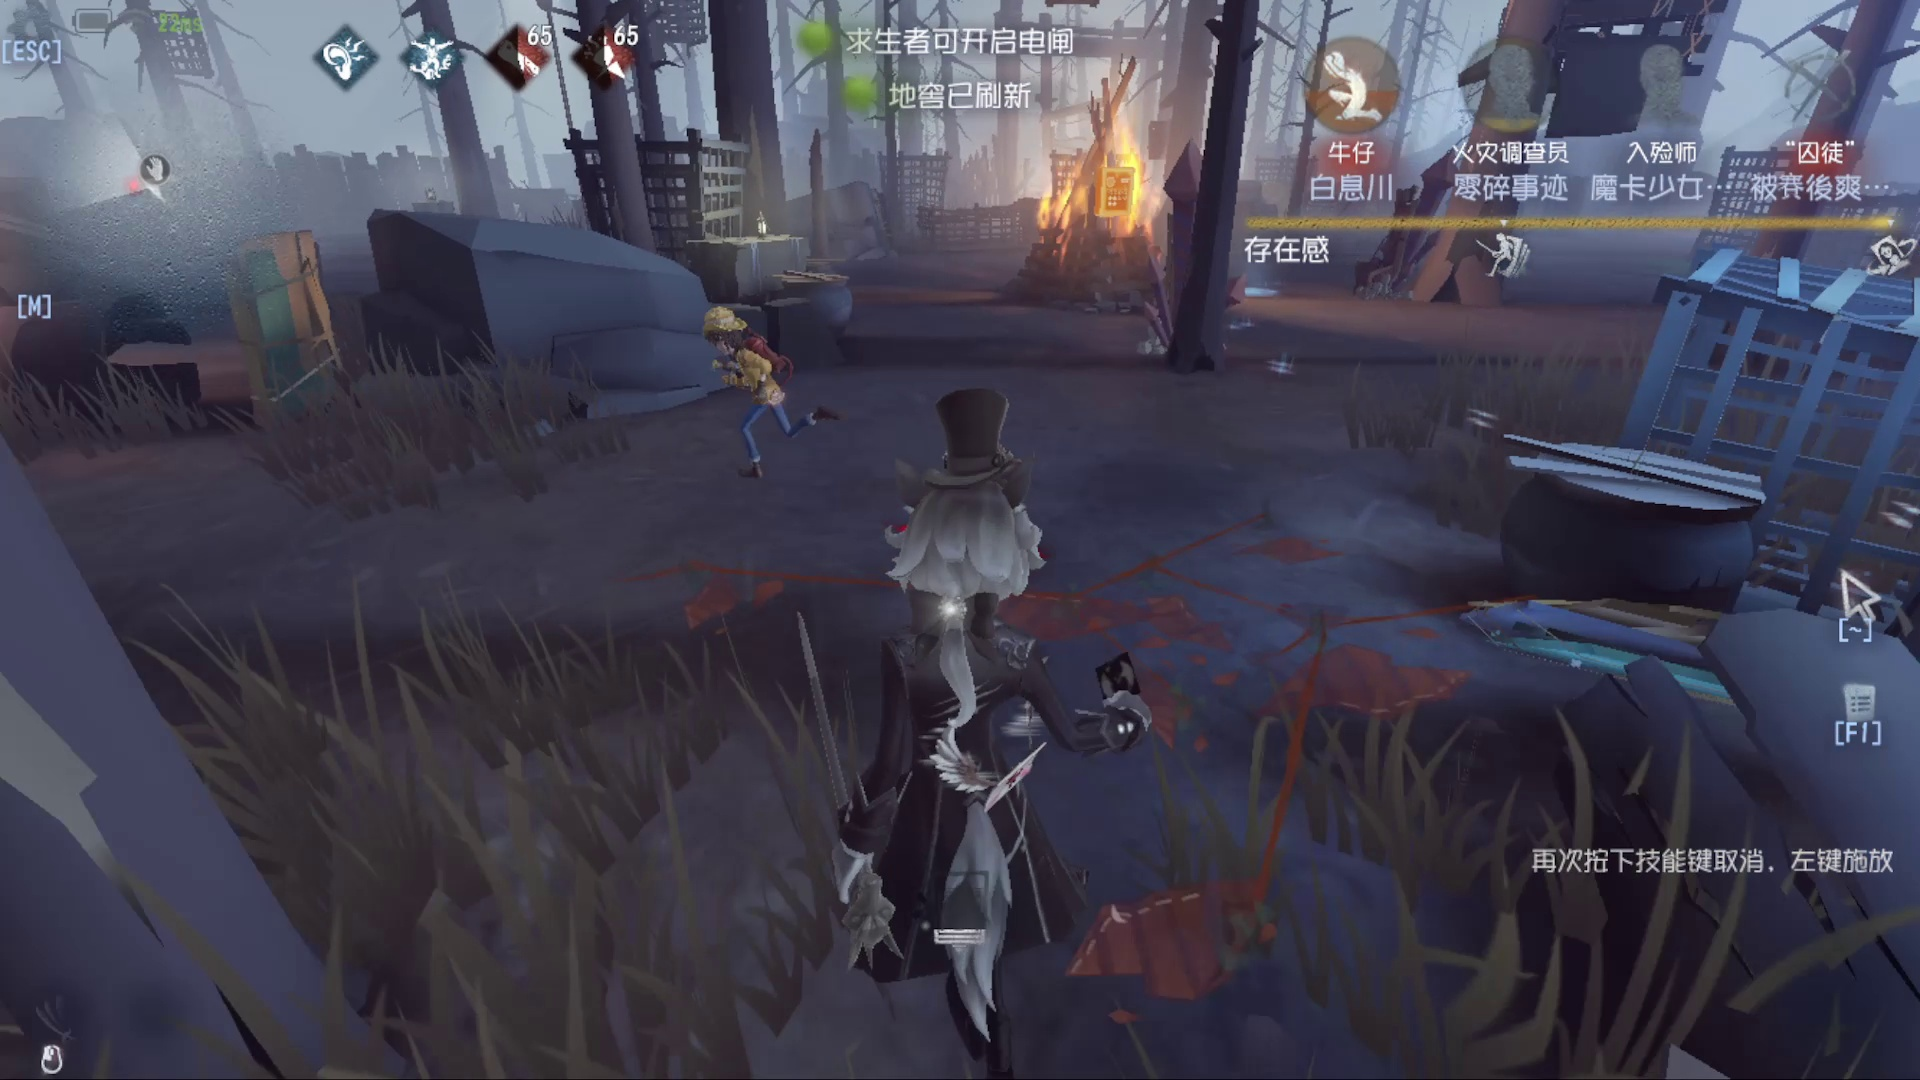木板: (1494, 566, 1858, 742), (195, 212, 369, 458)
求生者: (688, 291, 825, 471)
狂欢之椅: (1131, 136, 1228, 369)
脚印: (1081, 464, 1452, 757)
